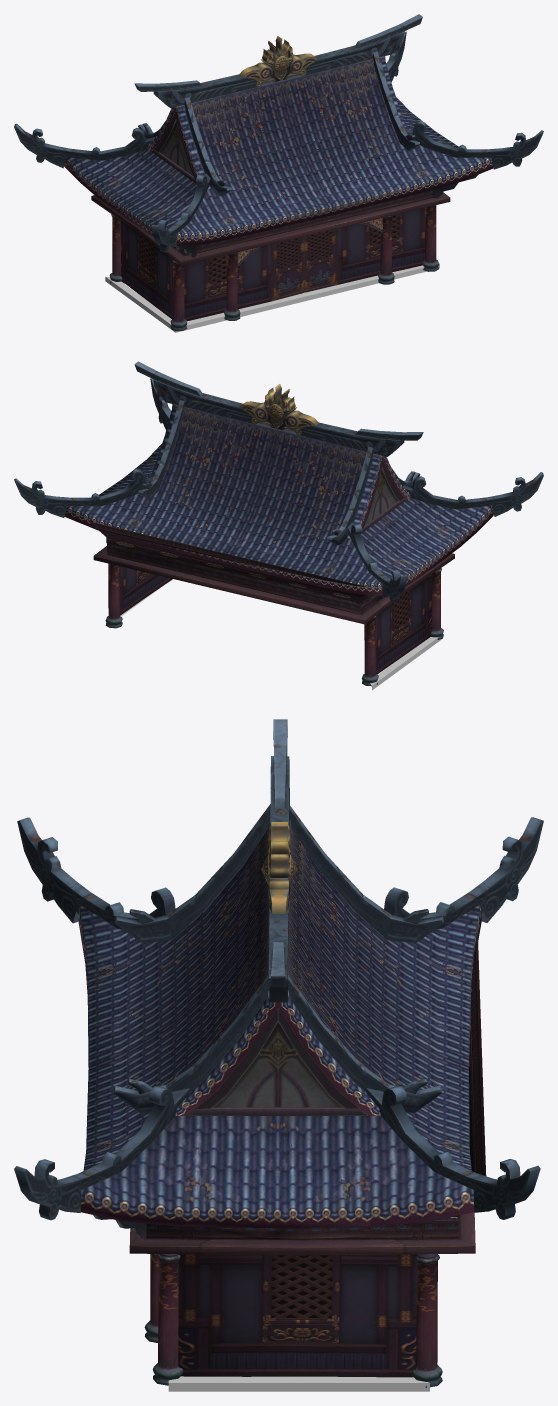
File: Map01_Building_01.FBX
3 renders of one model, top to bottom at view 1: azimuth 30°, elevation 25°; view 2: azimuth 150°, elevation 25°; view 3: azimuth 270°, elevation 25°, orthographic. The views are drawn at different scales.
Visible parts, largest first — view 1: Map01_Building_01 (×5), Group001; view 2: Map01_Building_01 (×5); view 3: Map01_Building_01 (×5).
Part boxes in pixels (left/top/right/bottom): Map01_Building_01 (×5): left=14, top=14, right=543, bottom=332; Group001: left=176, top=175, right=477, bottom=257; Map01_Building_01 (×5): left=14, top=361, right=543, bottom=690; Map01_Building_01 (×5): left=14, top=719, right=543, bottom=1391.
Bounding box in the file's own units: 3169 × 1859 × 1993.
